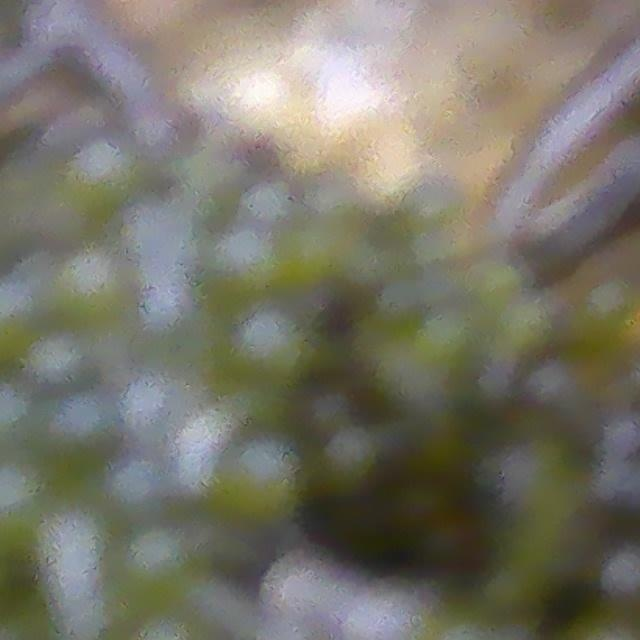SeaGrape: (225, 437, 299, 520), (233, 306, 306, 382), (54, 249, 124, 321), (123, 524, 189, 594), (600, 545, 640, 600)
